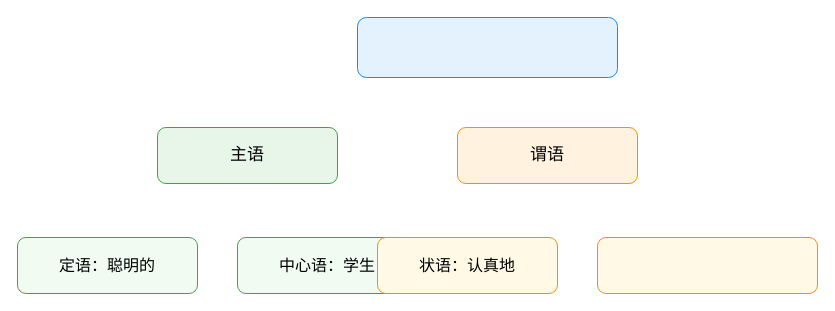
Image size: 835x311. Some labels were removed from this diagram. The shapes that lost their labels are listed below. From the top down, each one's centre as x and y in pixels, then its label:
At (487,47): "句子".
At (707,265): "中心语：完成了作业".
